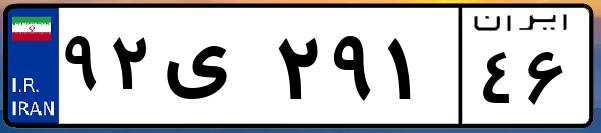1: (385, 28, 445, 110)
2: (270, 28, 330, 110), (110, 28, 158, 98)
4: (475, 38, 525, 113)
6: (525, 38, 570, 115)
9: (330, 28, 385, 110), (57, 26, 110, 100)
ی: (158, 20, 270, 120)
